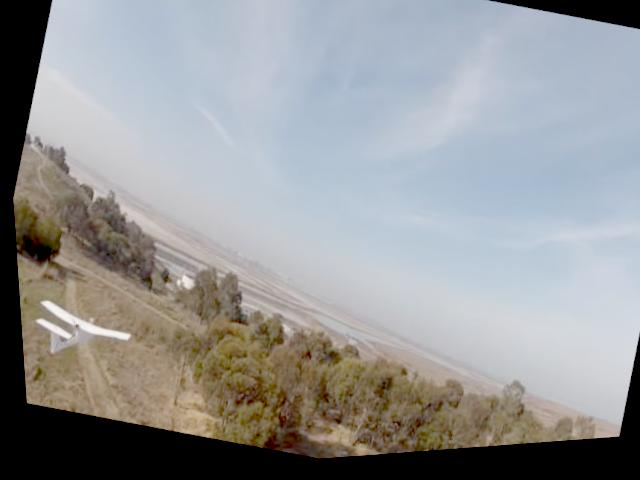uav: (15, 287, 139, 386)
